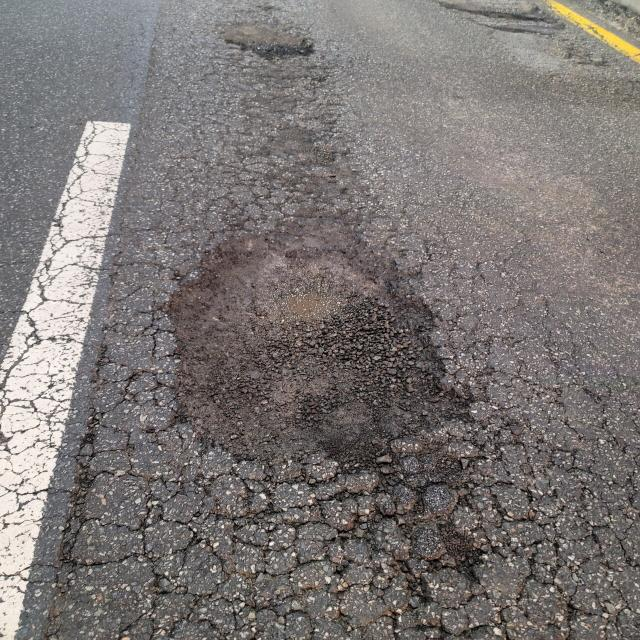pothole: (147, 187, 521, 596), (219, 16, 320, 66)
